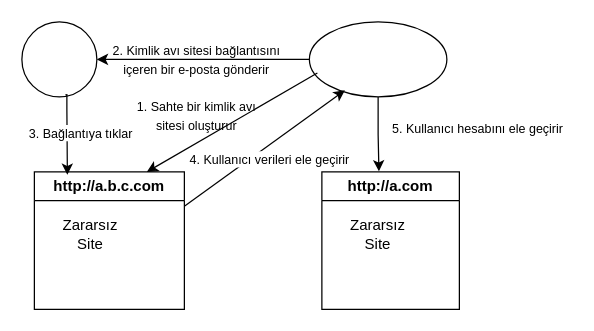
Some shapes in this 594 by 331 pixel diagram are drawn without their labels. Here are the shapes that lost their labels. From the top down, the centre of each, then its label:
[59,59]: Kullanıcı
[377,59]: Saldırgan
